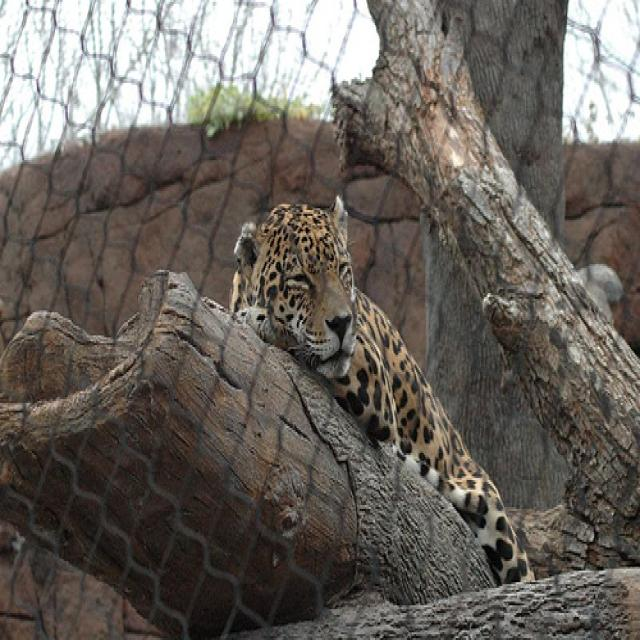Leopard: (225, 191, 535, 588)
